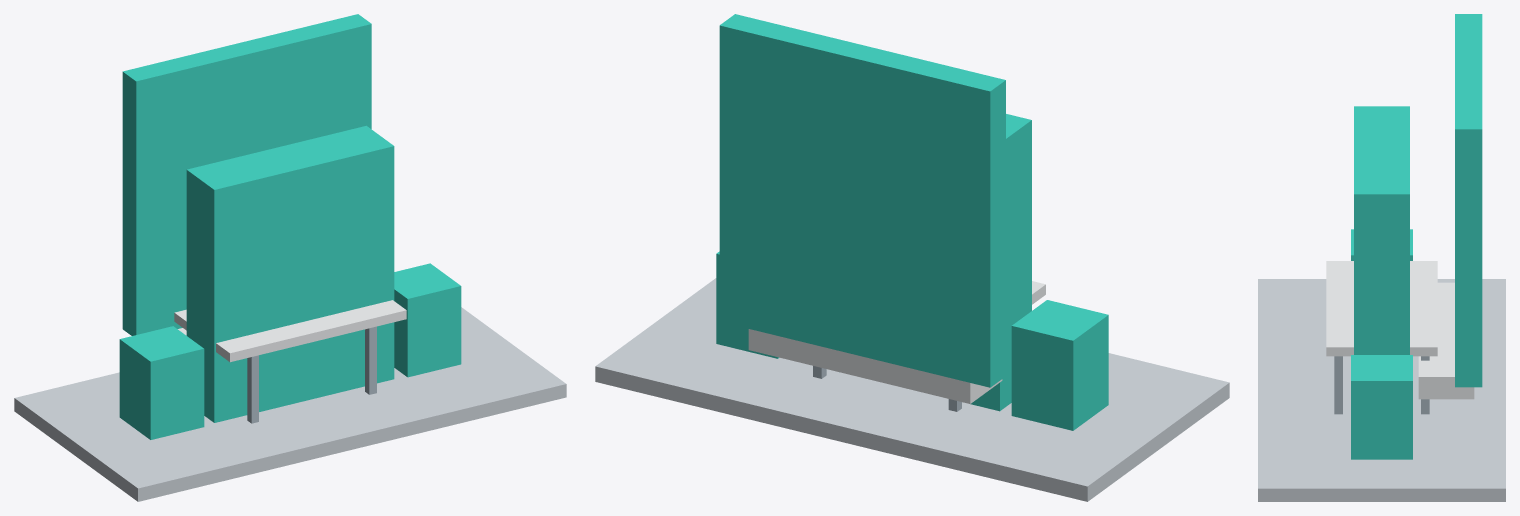
3 views of the same model, side by side, from view 1: azimuth 30°, elevation 25°; view 2: azimuth 150°, elevation 25°; view 3: azimuth 270°, elevation 25° (orthographic). The views are drawn at different scales.
Parts seen in each view (by area): view 1: Exhibition Booth Concept; view 2: Exhibition Booth Concept; view 3: Exhibition Booth Concept.
Boxes of the visible parts, bbox=[...] form: Exhibition Booth Concept: bbox=[14, 14, 566, 501]; Exhibition Booth Concept: bbox=[595, 14, 1229, 501]; Exhibition Booth Concept: bbox=[1258, 14, 1505, 501].
Bounding box in the file's own units: 4 × 2.9 × 2.
